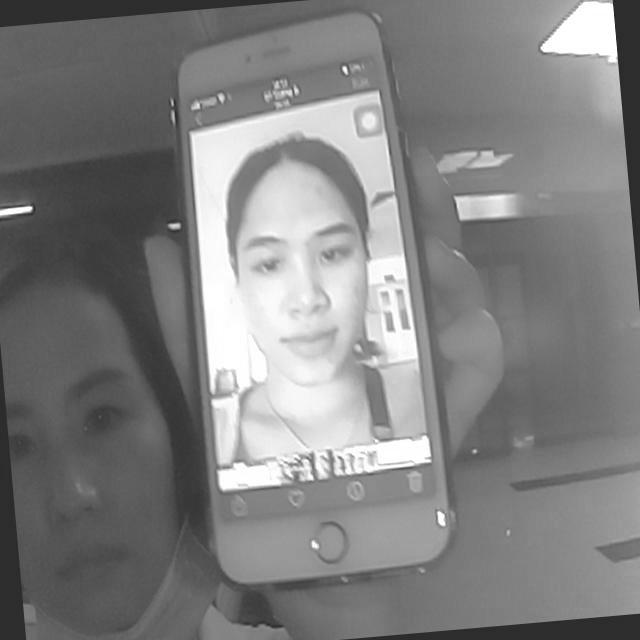fake: (153, 0, 480, 607)
